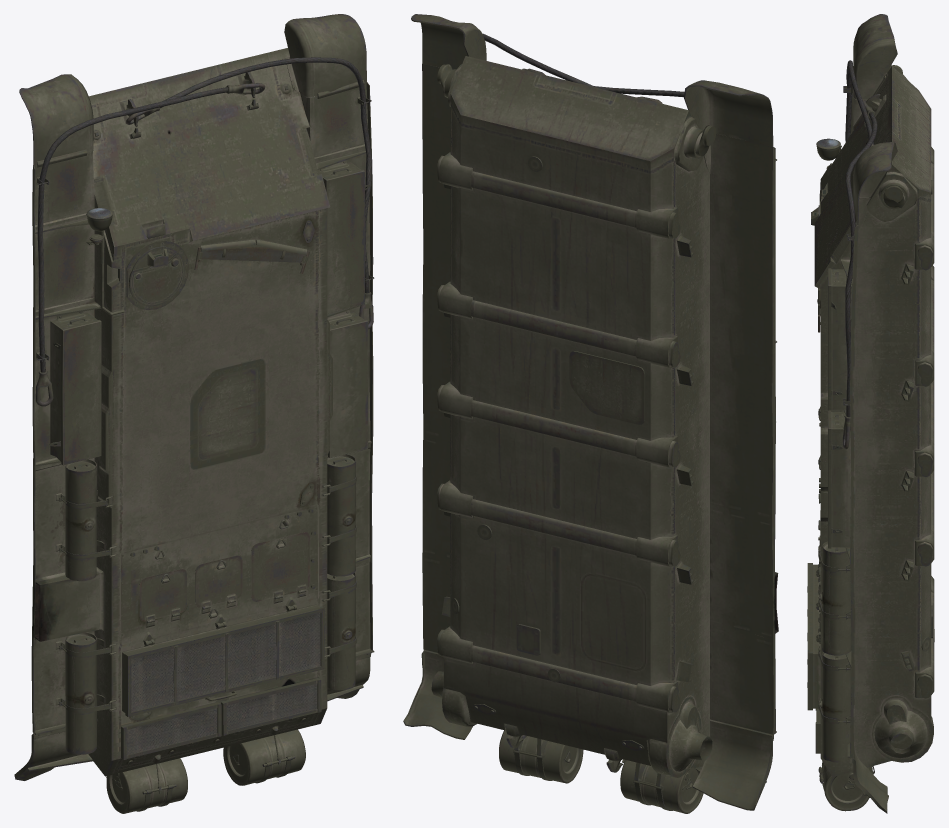
Rendered from Hull.glb.
The picture shows the model from 3 angles, left to right: view 1: azimuth 30°, elevation 25°; view 2: azimuth 150°, elevation 25°; view 3: azimuth 270°, elevation 25°; orthographic projection. The views are drawn at different scales.
Visible parts, largest first — view 1: set_0_group_0; view 2: set_0_group_0; view 3: set_0_group_0.
Part boxes in pixels (box(x1,y1,x2,y2)): set_0_group_0: box(14, 14, 374, 813); set_0_group_0: box(403, 14, 778, 813); set_0_group_0: box(807, 14, 934, 813).
Bounding box in the file's own units: 3.19 × 6.52 × 1.1.
Materials: 1 (1 with a texture image).
